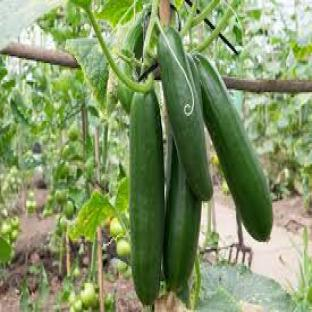Cucumber: (195, 55, 273, 240), (158, 28, 212, 201), (130, 91, 164, 305), (164, 137, 200, 293), (123, 14, 142, 57)
Tomato: (81, 284, 96, 306), (116, 239, 130, 257), (63, 201, 75, 220), (111, 219, 123, 238), (69, 125, 79, 141), (55, 190, 66, 204), (116, 260, 128, 272), (105, 294, 114, 310), (2, 222, 11, 236), (59, 217, 68, 230), (62, 145, 71, 158), (11, 217, 19, 230), (123, 266, 131, 279), (69, 292, 77, 305), (74, 299, 82, 311), (222, 181, 229, 194), (11, 229, 18, 242), (73, 266, 80, 277)
